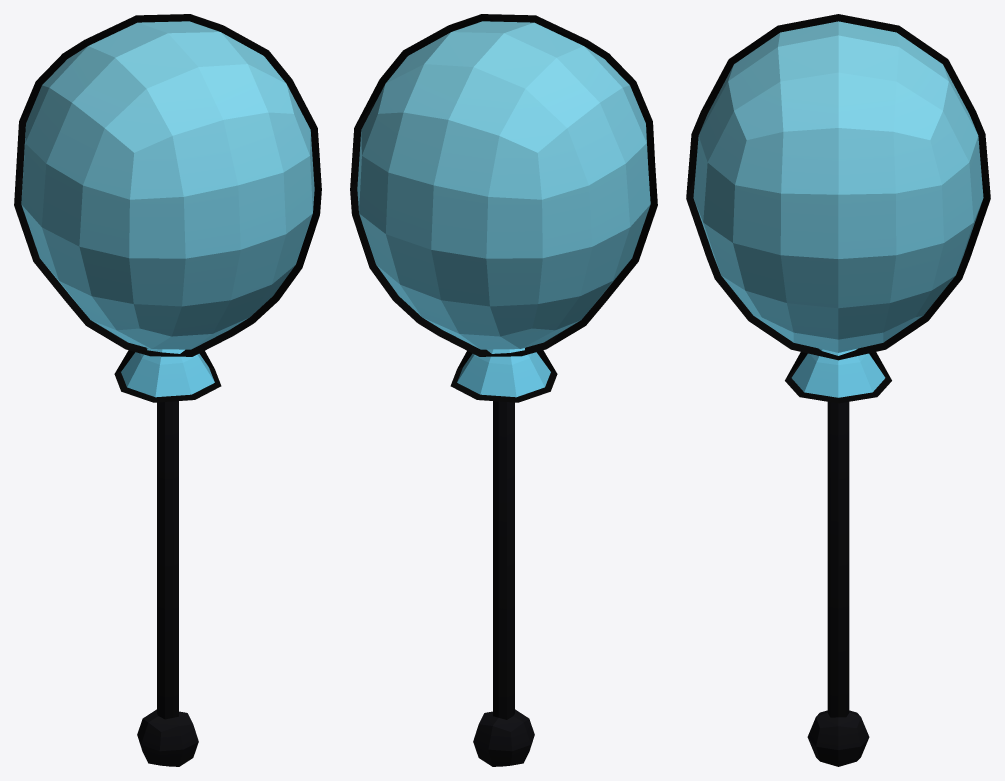
Rendered from item_balloon_teal.fbx.
3 renders of one model, left to right at view 1: azimuth 30°, elevation 25°; view 2: azimuth 150°, elevation 25°; view 3: azimuth 270°, elevation 25°, orthographic.
Parts seen in each view (by area): view 1: Balloon, BalloonThread; view 2: Balloon, BalloonThread; view 3: Balloon, BalloonThread.
Boxes of the visible parts, x1=… form: Balloon: x1=14, y1=14, x2=321, y2=402; BalloonThread: x1=137, y1=401, x2=198, y2=766; Balloon: x1=350, y1=14, x2=657, y2=402; BalloonThread: x1=473, y1=401, x2=534, y2=766; Balloon: x1=686, y1=14, x2=990, y2=403; BalloonThread: x1=807, y1=402, x2=869, y2=766.
Size of the model in its own units: 82.56 by 220 by 82.56.
